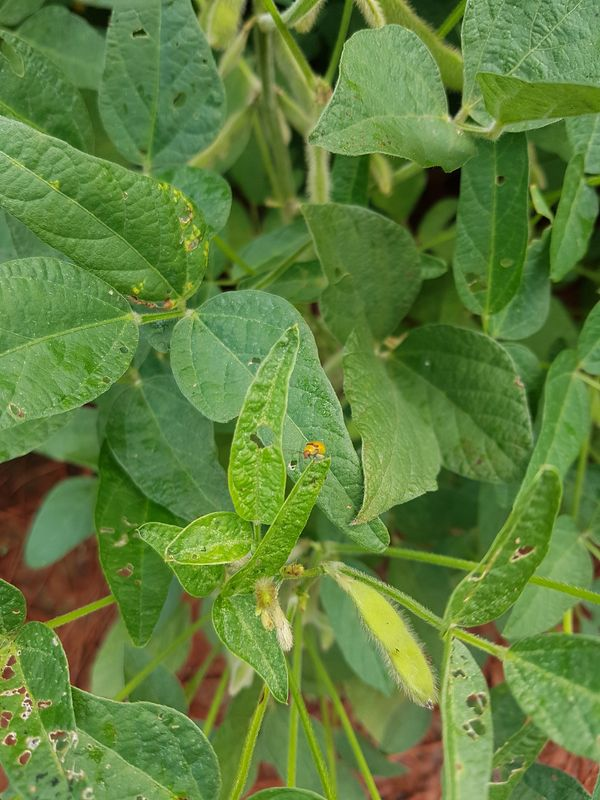Diabrotica_speciosa: (294, 435, 332, 469)
